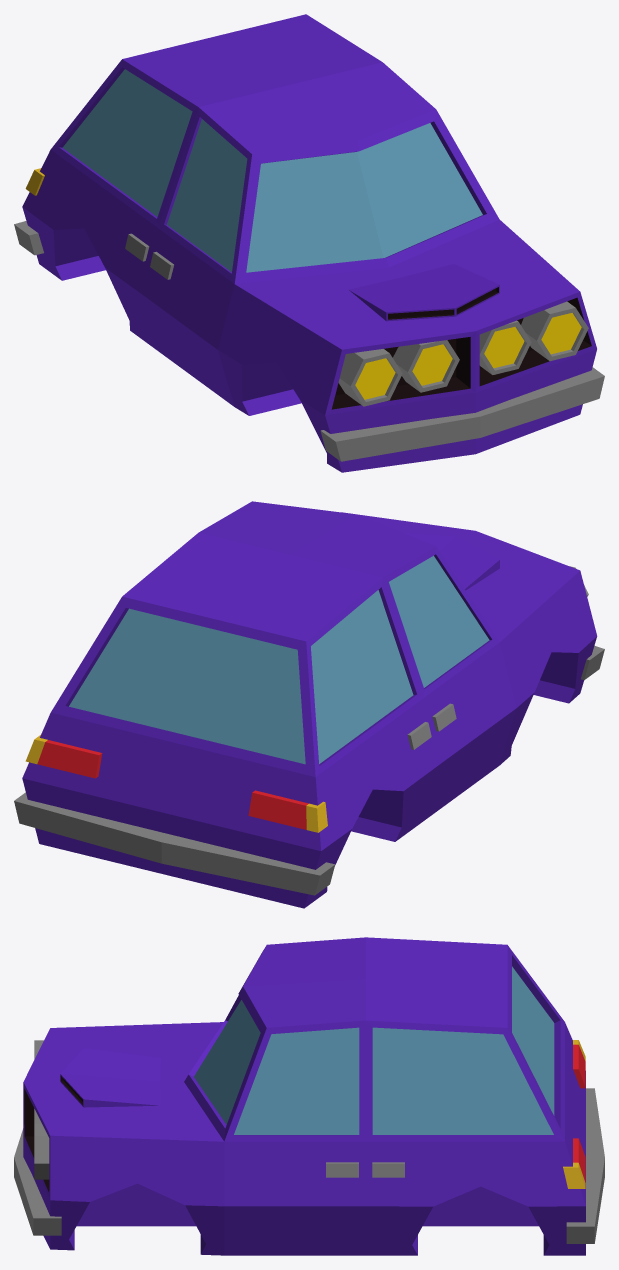
File: LowPaulCar.fbx
3 renders of one model, top to bottom at view 1: azimuth 30°, elevation 25°; view 2: azimuth 150°, elevation 25°; view 3: azimuth 270°, elevation 25°, orthographic. The views are drawn at different scales.
Parts seen in each view (by area): view 1: Cube; view 2: Cube; view 3: Cube.
Part boxes in pixels (x1=…): Cube: x1=14, y1=14, x2=604, y2=472; Cube: x1=14, y1=501, x2=604, y2=908; Cube: x1=14, y1=937, x2=604, y2=1255.
Size of the model in its own units: 1.63 by 1.19 by 2.94.
